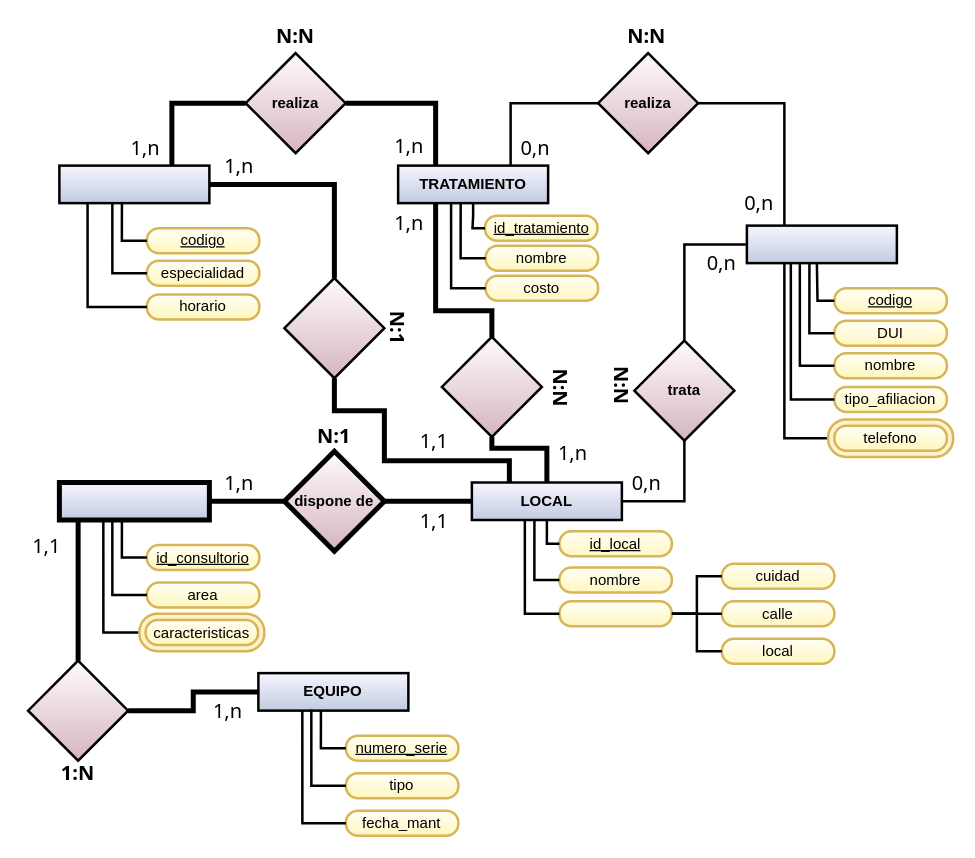
Some shapes in this 975 by 858 pixel diagram are drawn without their labels. Here are the shapes that lost their labels. From the top down, the centre of each, then its label:
At point 134,184: "ODONTOLOGO".
At point 821,244: "AFILIADO".
At point 333,327: "cuenta con".
At point 491,386: "ofrece".
At point 133,500: "CONSULTORIO".
At point 615,613: "direccion".
At point 77,710: "tiene".
